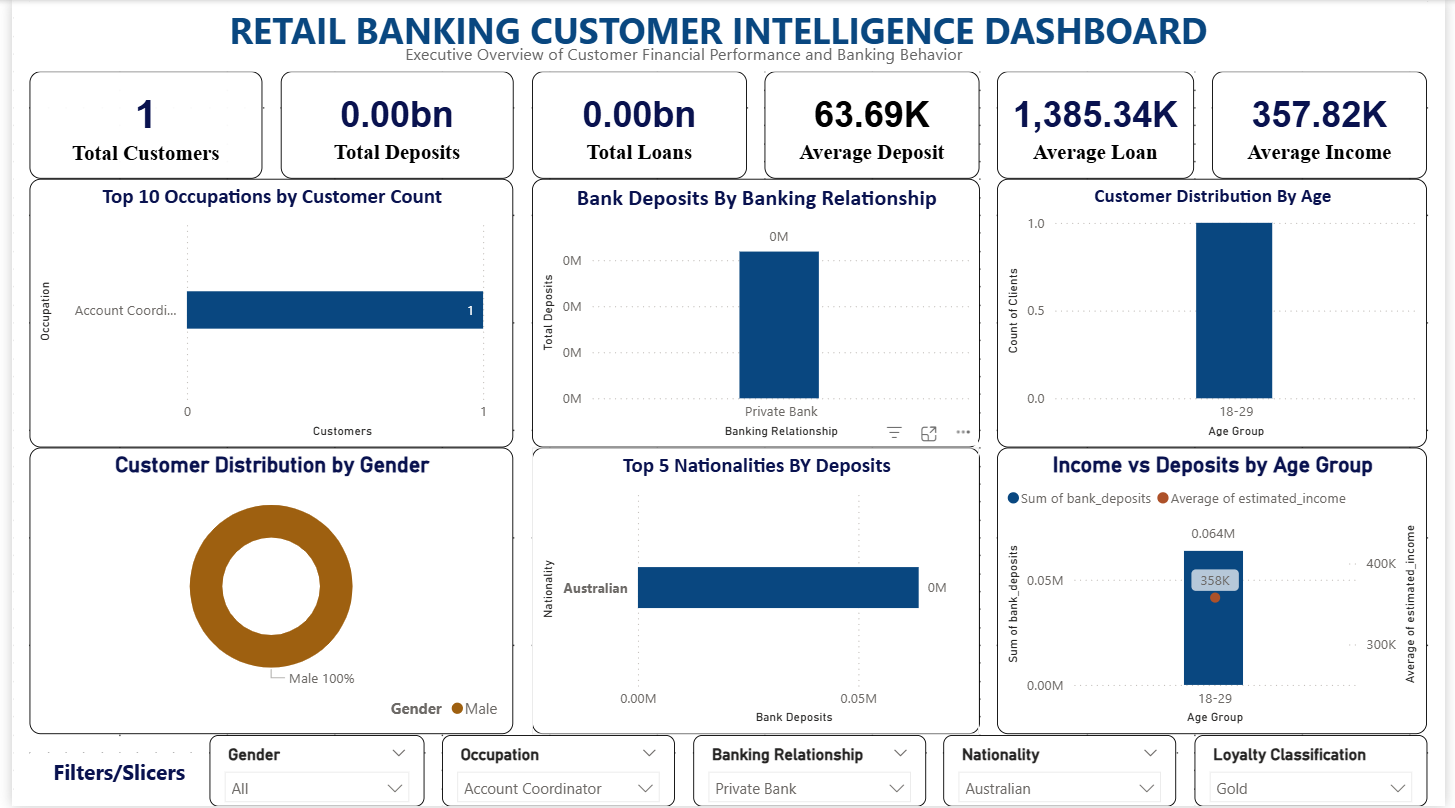

The page's visual inventory and layout, read from the dashboard file:
{"tool":"powerbi","page":{"name":"Executive Dashboard","canvas":[1280,720],"ordinal":0},"visuals":[{"type":"card","fields":{"Values":["clean_banking_data.Total Customers"]},"box":[16,64,208,96],"z":0},{"type":"card","fields":{"Values":["clean_banking_data.Average Loan"]},"box":[880,64,176,96],"z":1},{"type":"card","fields":{"Values":["clean_banking_data.Average Deposit"]},"box":[672,64,192,96],"z":2},{"type":"card","fields":{"Values":["clean_banking_data.Total Deposits"]},"box":[240,64,208,96],"z":3},{"type":"card","fields":{"Values":["clean_banking_data.Average Income"]},"box":[1072,64,192,96],"z":4},{"type":"card","fields":{"Values":["clean_banking_data.Total Loans"]},"box":[464,64,192,96],"z":5},{"type":"clusteredBarChart","title":"Top 10 Occupations by Customer Count","fields":{"Category":["clean_banking_data.occupation"],"Y":["CountNonNull(clean_banking_data.client_id)"]},"box":[16,160,432,240],"z":6},{"type":"clusteredColumnChart","title":"Bank Deposits By Banking Relationship","fields":{"Category":["clean_banking_data.banking_relationship"],"Y":["Sum(clean_banking_data.bank_deposits)"]},"box":[464,160,400,240],"z":7},{"type":"donutChart","title":"Customer Distribution by Gender","fields":{"Category":["clean_banking_data.gender"],"Y":["CountNonNull(clean_banking_data.client_id)"]},"box":[16,400,432,256],"z":8},{"type":"clusteredBarChart","title":"Top 5 Nationalities BY Deposits","fields":{"Category":["clean_banking_data.nationality"],"Y":["Sum(clean_banking_data.bank_deposits)"]},"box":[464,400,400,256],"z":9},{"type":"columnChart","title":"Customer Distribution By Age","fields":{"Category":["clean_banking_data.Age Group"],"Y":["CountNonNull(clean_banking_data.client_id)"]},"box":[880,160,384,240],"z":10},{"type":"lineClusteredColumnComboChart","title":"Income vs Deposits by Age Group","fields":{"Category":["clean_banking_data.Age Group"],"Y":["Sum(clean_banking_data.bank_deposits)"],"Y2":["Avg(clean_banking_data.estimated_income)"]},"box":[880,400,384,256],"z":11},{"type":"textbox","box":[16,0,1248,64],"z":12},{"type":"slicer","fields":{"Values":["clean_banking_data.gender"]},"box":[176,656,192,64],"z":13},{"type":"slicer","fields":{"Values":["clean_banking_data.occupation"]},"box":[384,656,208,64],"z":14},{"type":"slicer","fields":{"Values":["clean_banking_data.banking_relationship"]},"box":[608,656,208,64],"z":15},{"type":"slicer","fields":{"Values":["clean_banking_data.nationality"]},"box":[832,656,208,64],"z":16},{"type":"slicer","fields":{"Values":["clean_banking_data.loyalty_classification"]},"box":[1056,656,208,64],"z":17},{"type":"textbox","box":[16,672,160,48],"z":18},{"type":"textbox","box":[240,32,720,32],"z":19}]}

Visuals, with their boxes in screenshot pixels (x1, y1, x2, y2), scaled from the page's 1280x720 canvas onto the 1455x808 screenshot:
card - clean_banking_data.Total Customers: 18,72,255,180
card - clean_banking_data.Average Loan: 1000,72,1200,180
card - clean_banking_data.Average Deposit: 764,72,982,180
card - clean_banking_data.Total Deposits: 273,72,509,180
card - clean_banking_data.Average Income: 1219,72,1437,180
card - clean_banking_data.Total Loans: 527,72,746,180
"Top 10 Occupations by Customer Count" clusteredBarChart: 18,180,509,449
"Bank Deposits By Banking Relationship" clusteredColumnChart: 527,180,982,449
"Customer Distribution by Gender" donutChart: 18,449,509,736
"Top 5 Nationalities BY Deposits" clusteredBarChart: 527,449,982,736
"Customer Distribution By Age" columnChart: 1000,180,1437,449
"Income vs Deposits by Age Group" lineClusteredColumnComboChart: 1000,449,1437,736
textbox: 18,0,1437,72
slicer - clean_banking_data.gender: 200,736,418,807
slicer - clean_banking_data.occupation: 436,736,673,807
slicer - clean_banking_data.banking_relationship: 691,736,928,807
slicer - clean_banking_data.nationality: 946,736,1182,807
slicer - clean_banking_data.loyalty_classification: 1200,736,1437,807
textbox: 18,754,200,807
textbox: 273,36,1091,72
